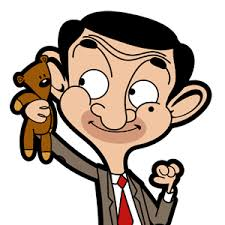mrbean: (23, 11, 213, 225)
